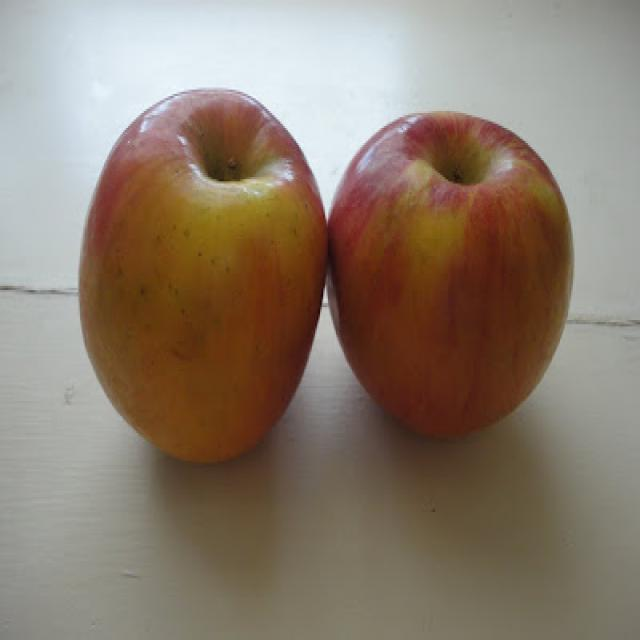Apple: (73, 84, 331, 461), (327, 111, 575, 441)
